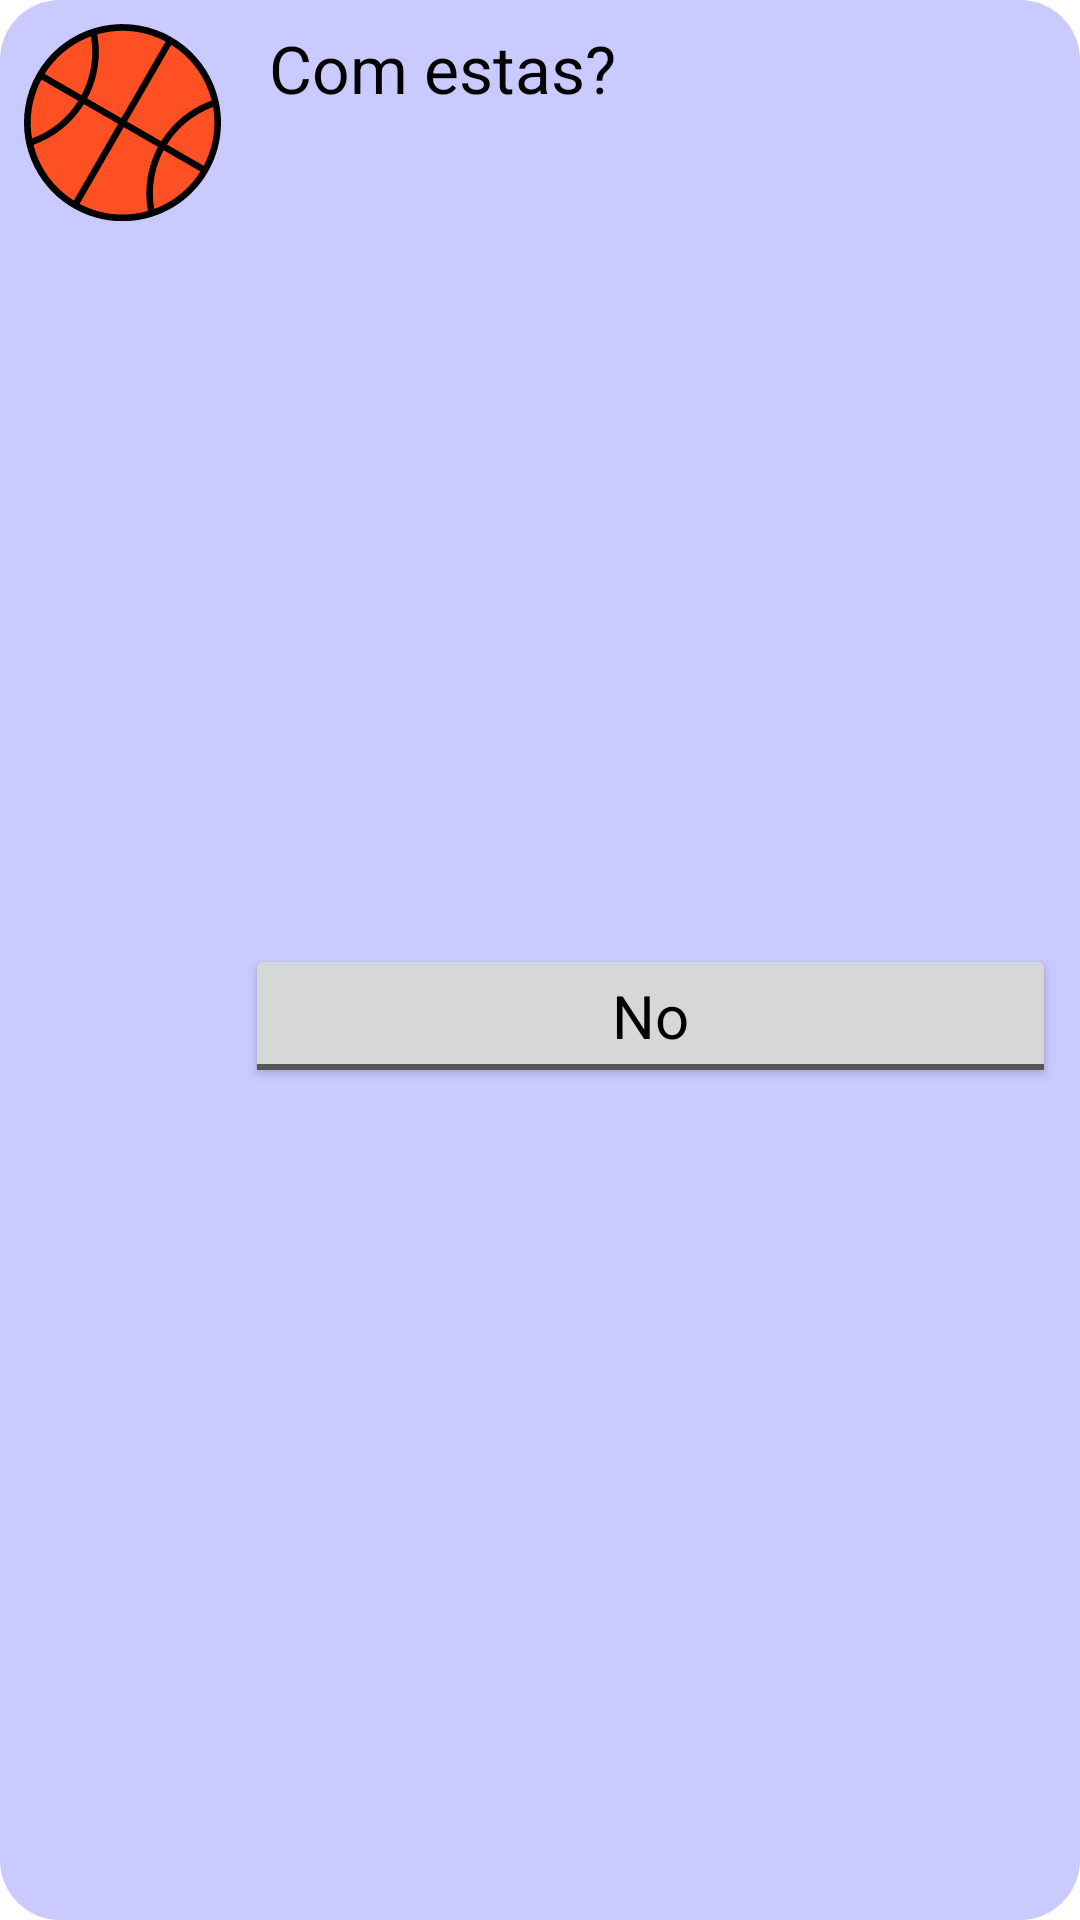

Screen size 1080px×1920px. Icon name, then its center in pixels as (x=x, y=y):
baloncesto: (x=122, y=122)
